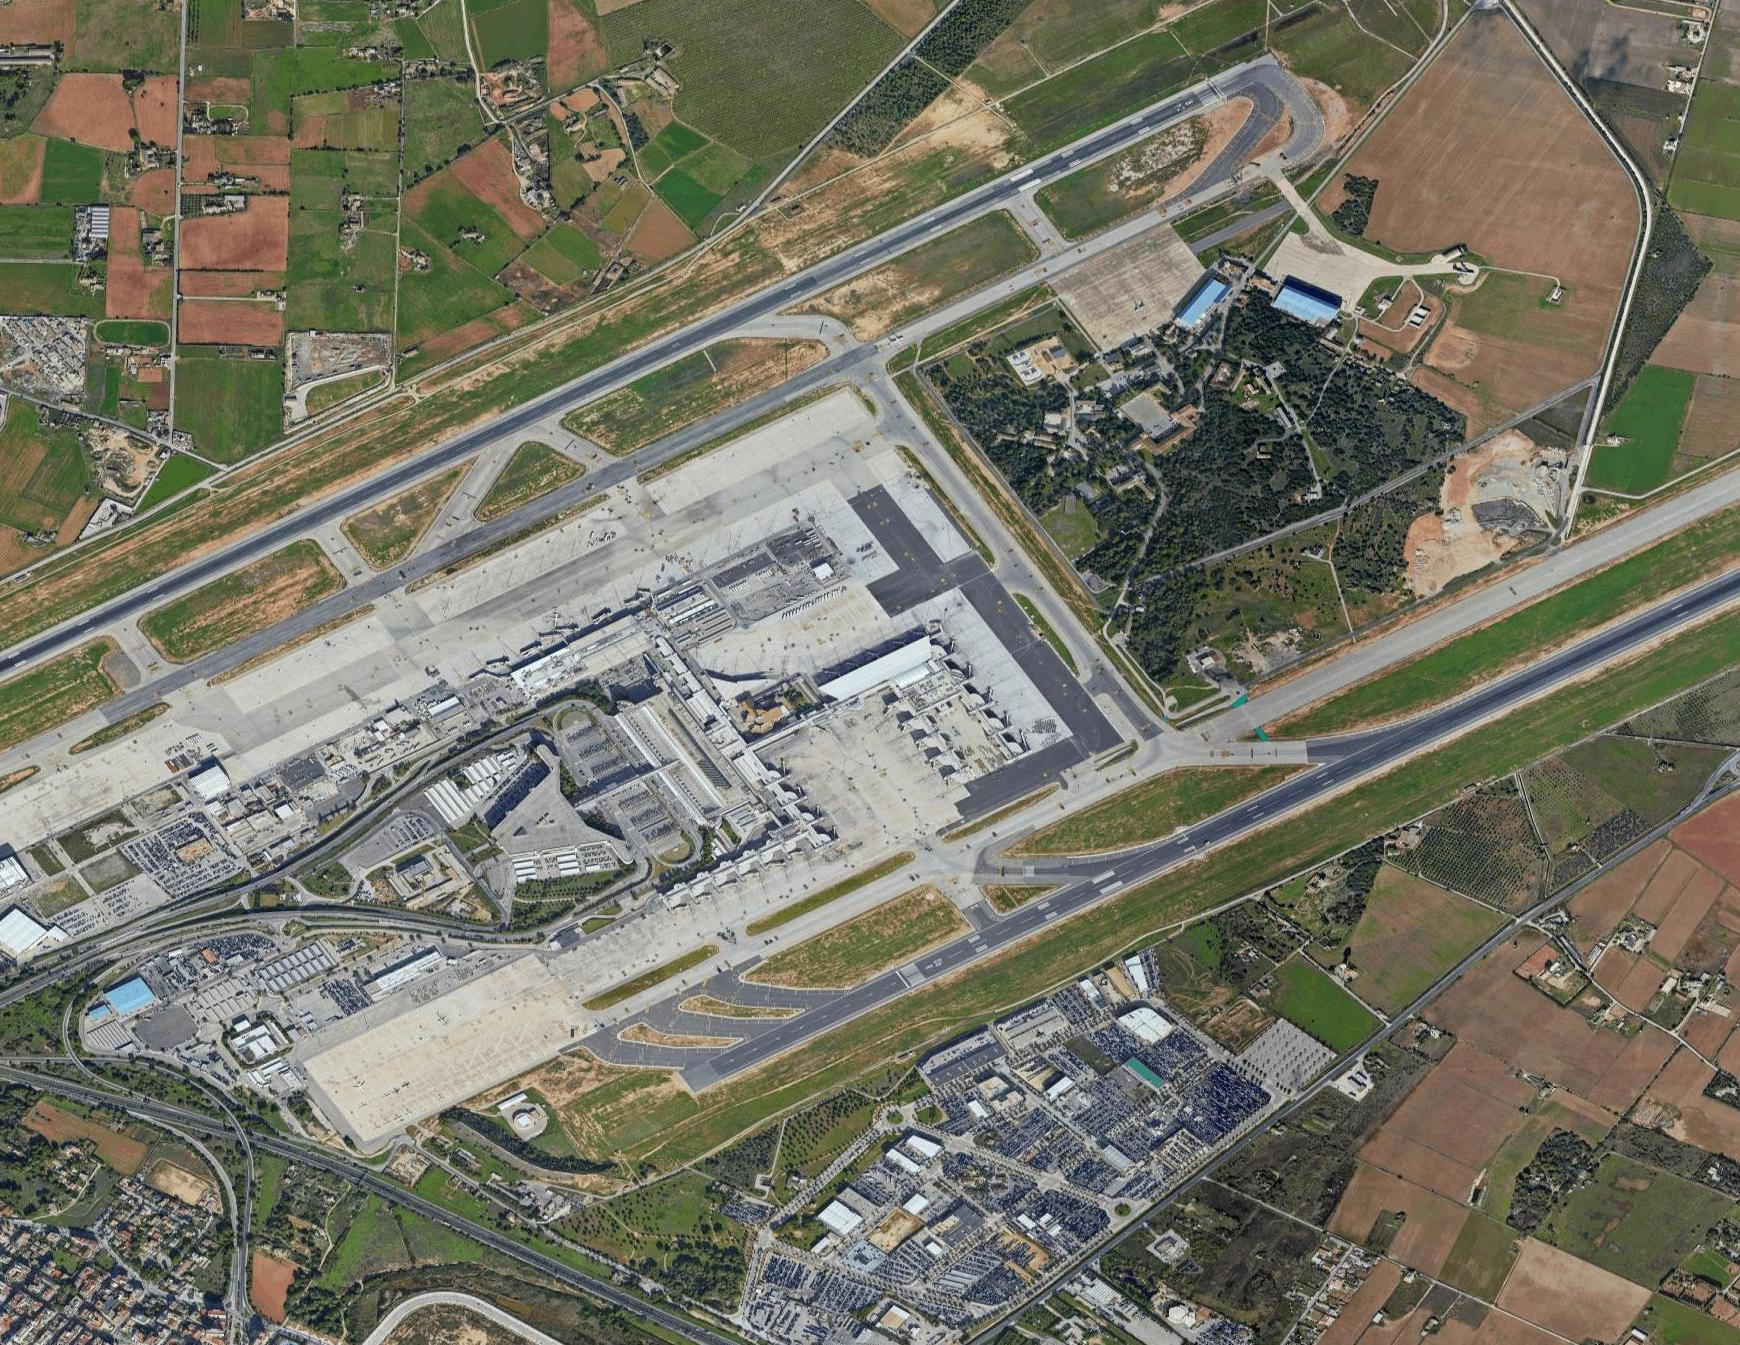airport: (1, 32, 1739, 1113)
motorway: (273, 1142, 532, 1260), (6, 1070, 271, 1151), (530, 1248, 741, 1345)
